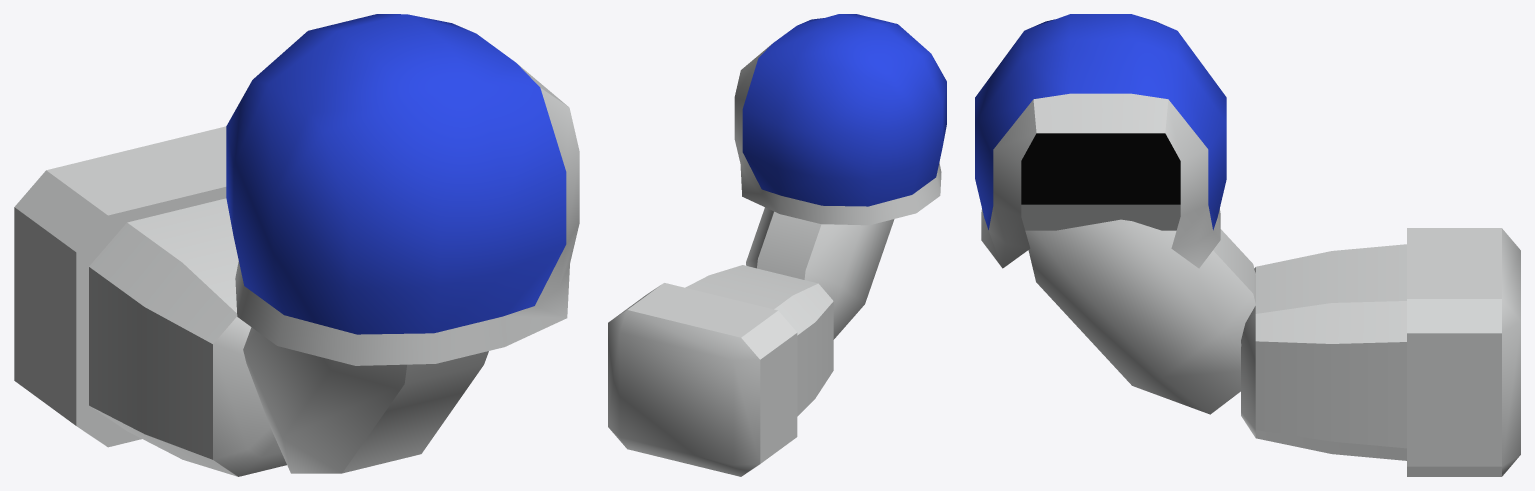
Rendered from Arm_L.obj.
The picture shows the model from 3 angles, left to right: view 1: azimuth 30°, elevation 25°; view 2: azimuth 150°, elevation 25°; view 3: azimuth 270°, elevation 25°; orthographic projection. The views are drawn at different scales.
Parts seen in each view (by area): view 1: Arm_L; view 2: Arm_L; view 3: Arm_L.
Part boxes in pixels (x1=…): Arm_L: x1=14, y1=14, x2=579, y2=476; Arm_L: x1=608, y1=14, x2=946, y2=476; Arm_L: x1=975, y1=14, x2=1520, y2=476.
Size of the model in its own units: 0.2231 by 0.4147 by 0.4994.
